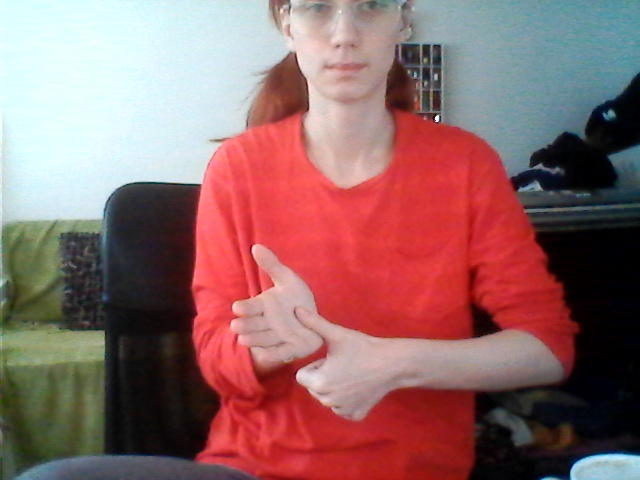pivo: (217, 238, 400, 424)
